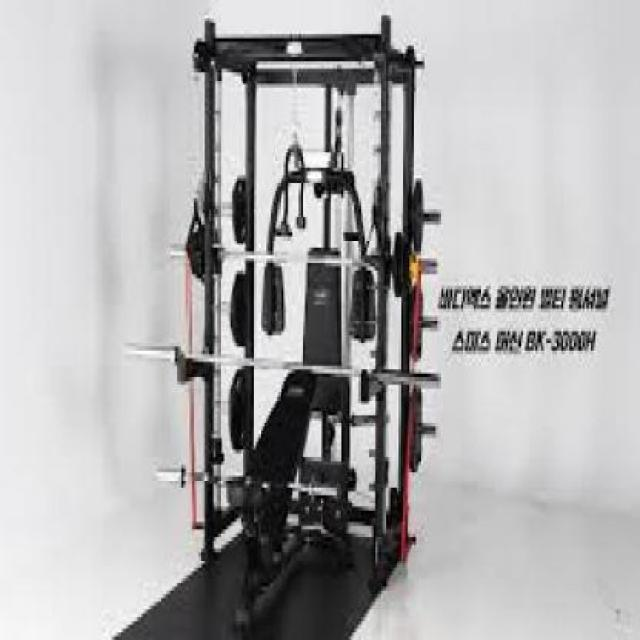smith machine: (166, 15, 440, 620)
